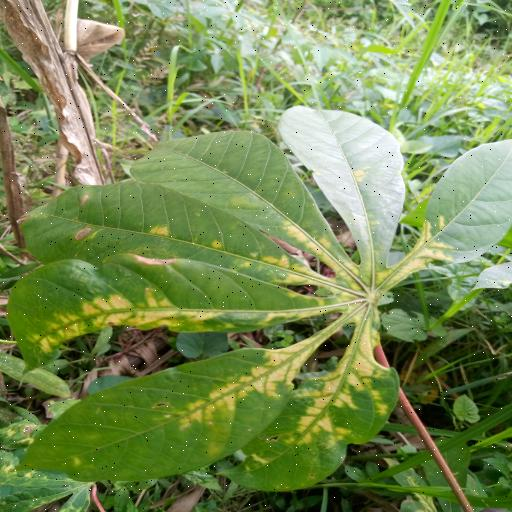Cassava_Mosaic: (9, 103, 512, 488)
